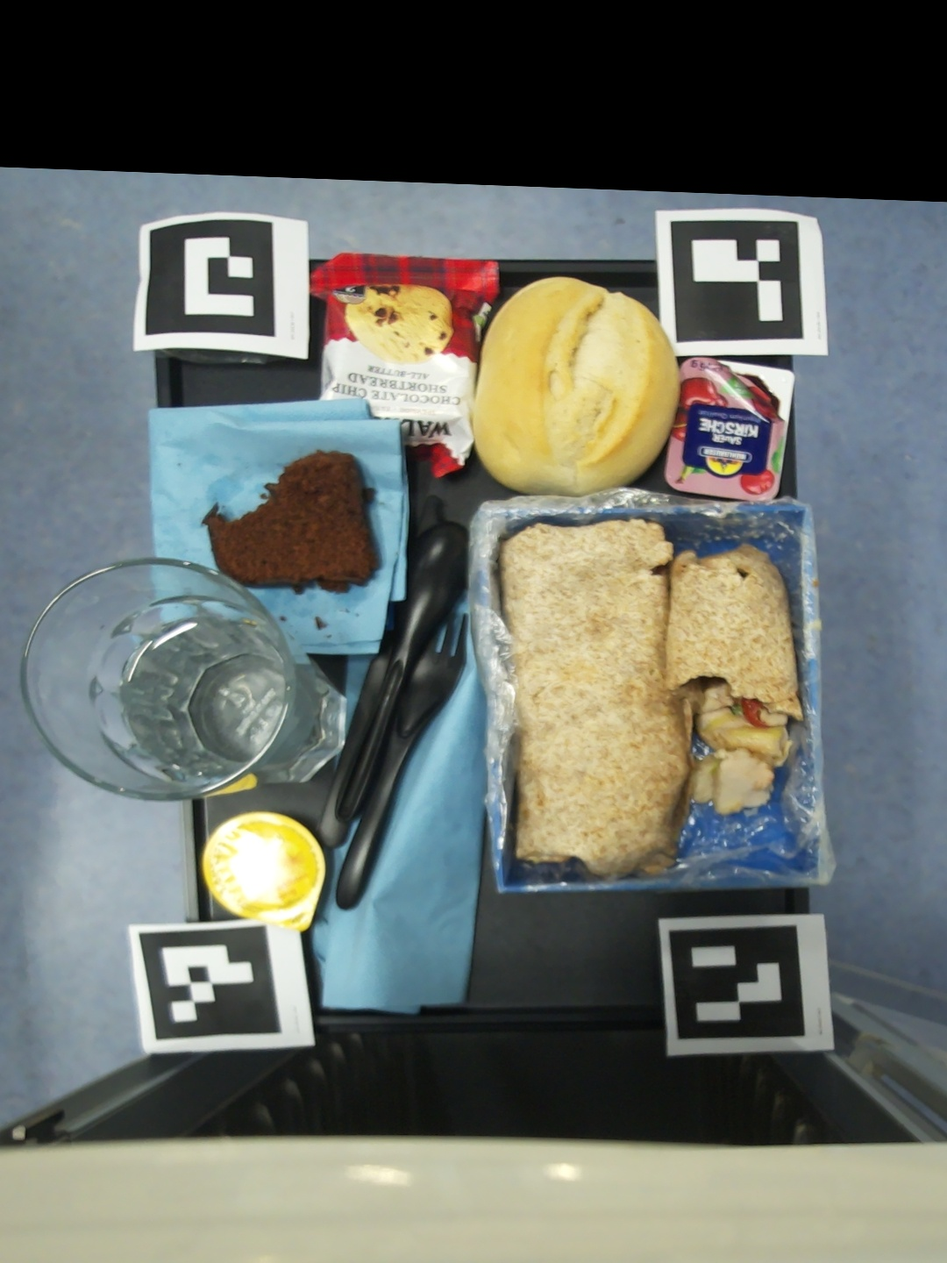bread_roll: (473, 277, 680, 488)
brownie: (203, 450, 383, 597), (316, 617, 327, 630)
cherry_jam: (666, 356, 794, 498)
cookie: (309, 253, 499, 479)
honey: (202, 812, 325, 931)
water_bottle: (24, 558, 348, 798)
wrap_half_1: (501, 519, 698, 877)
wrap_half_2: (662, 542, 805, 816)
